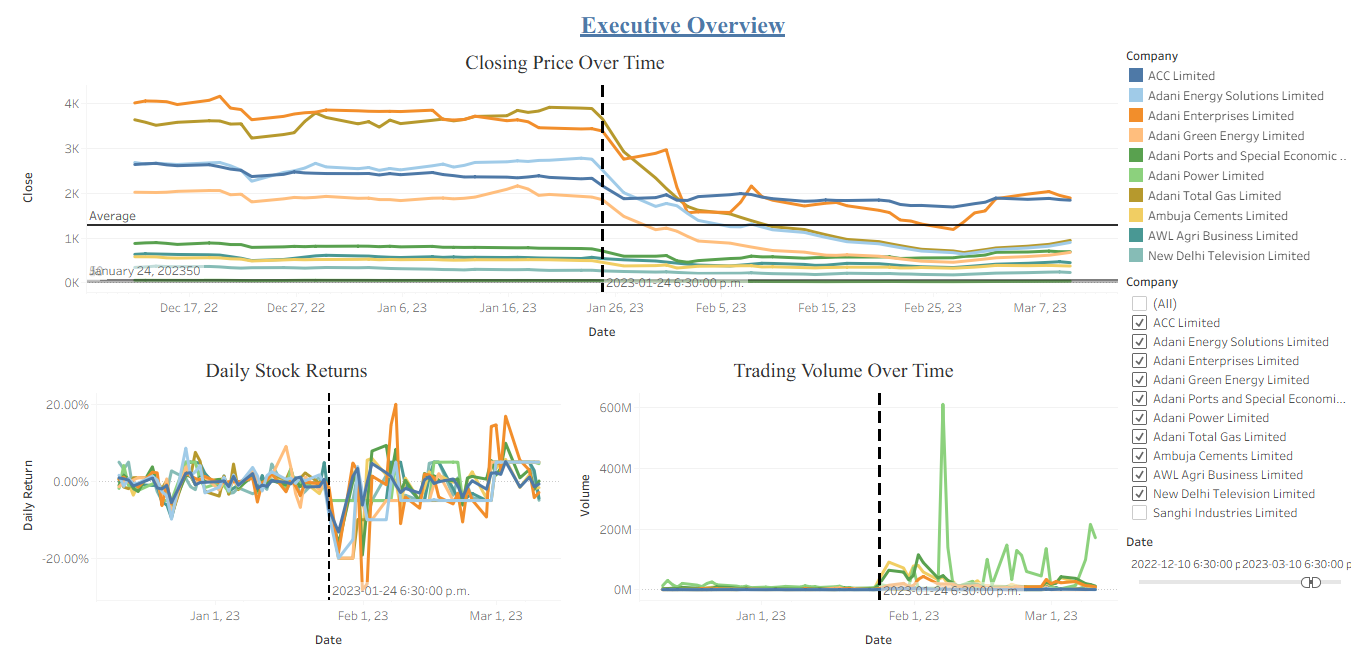

This screenshot's page, from the dashboard's own definition file:
{"tool":"tableau","page":{"name":"Executive Overview","canvas":[1000,1000],"units":"permille","ordinal":1},"visuals":[{"type":"title","box":[5.9,12,988.3,52.5]},{"type":"worksheet","title":"Closing Price Trend","mark":"Automatic","rows":["close"],"cols":["date"],"box":[5.9,64.5,815.5,461.7]},{"type":"legend","title":"Closing Price Trend","param":"[federated.071lyal071fq7l0zzem6w0fen4qm].[none:company:nk]","box":[821.4,64.5,172.8,338.8]},{"type":"filter","title":"Closing Price Trend","param":"[federated.071lyal071fq7l0zzem6w0fen4qm].[none:company:nk]","box":[821.4,403.3,172.8,389.8]},{"type":"worksheet","title":"Daily Returns","mark":"Automatic","rows":["daily_return"],"cols":["date"],"box":[5.9,526.2,407.7,461.8]},{"type":"worksheet","title":"Trading Volume","mark":"Automatic","rows":["volume"],"cols":["date"],"box":[413.6,526.2,407.8,461.8]},{"type":"filter","title":"Closing Price Trend","param":"[federated.071lyal071fq7l0zzem6w0fen4qm].[none:date:qk]","box":[821.4,793.1,172.8,103.4]}]}

Visuals, with their boxes on the dashboard's canvas, which has no fixed pixel size, in thousandths of its width and height (x1, y1, x2, y2). These are canvas units, not pixel positions in the 1365x667 screenshot, which may show the page scaled, cropped or inside an application window:
title: rect(6, 12, 994, 64)
"Closing Price Trend" worksheet: rect(6, 64, 821, 526)
"Closing Price Trend" legend: rect(821, 64, 994, 403)
"Closing Price Trend" filter: rect(821, 403, 994, 793)
"Daily Returns" worksheet: rect(6, 526, 414, 988)
"Trading Volume" worksheet: rect(414, 526, 821, 988)
"Closing Price Trend" filter: rect(821, 793, 994, 896)
